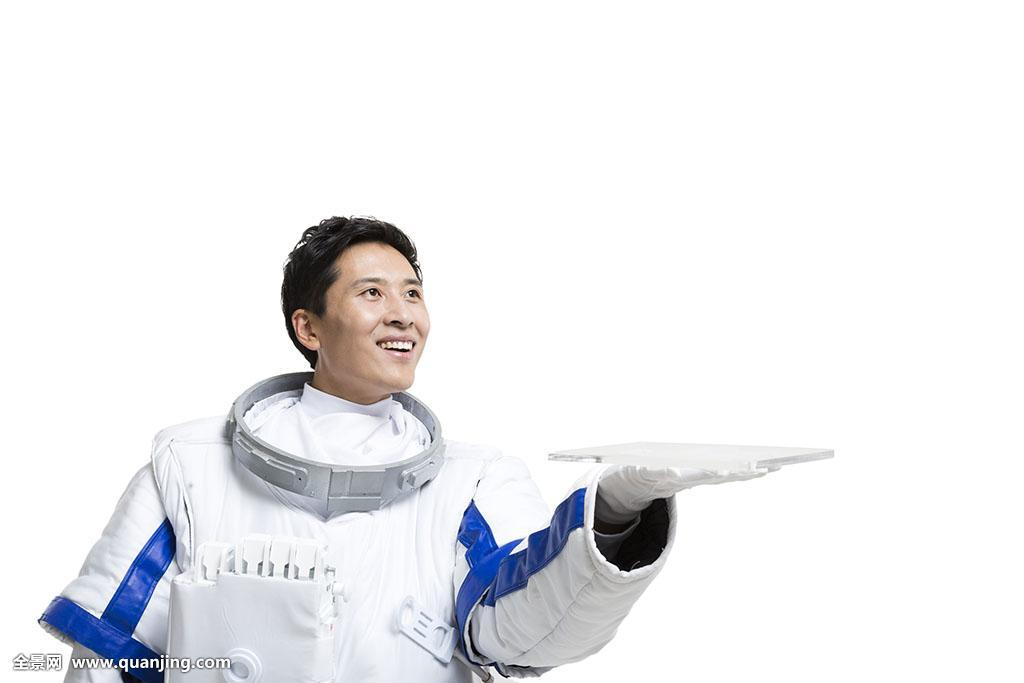other: (37, 208, 836, 672)
